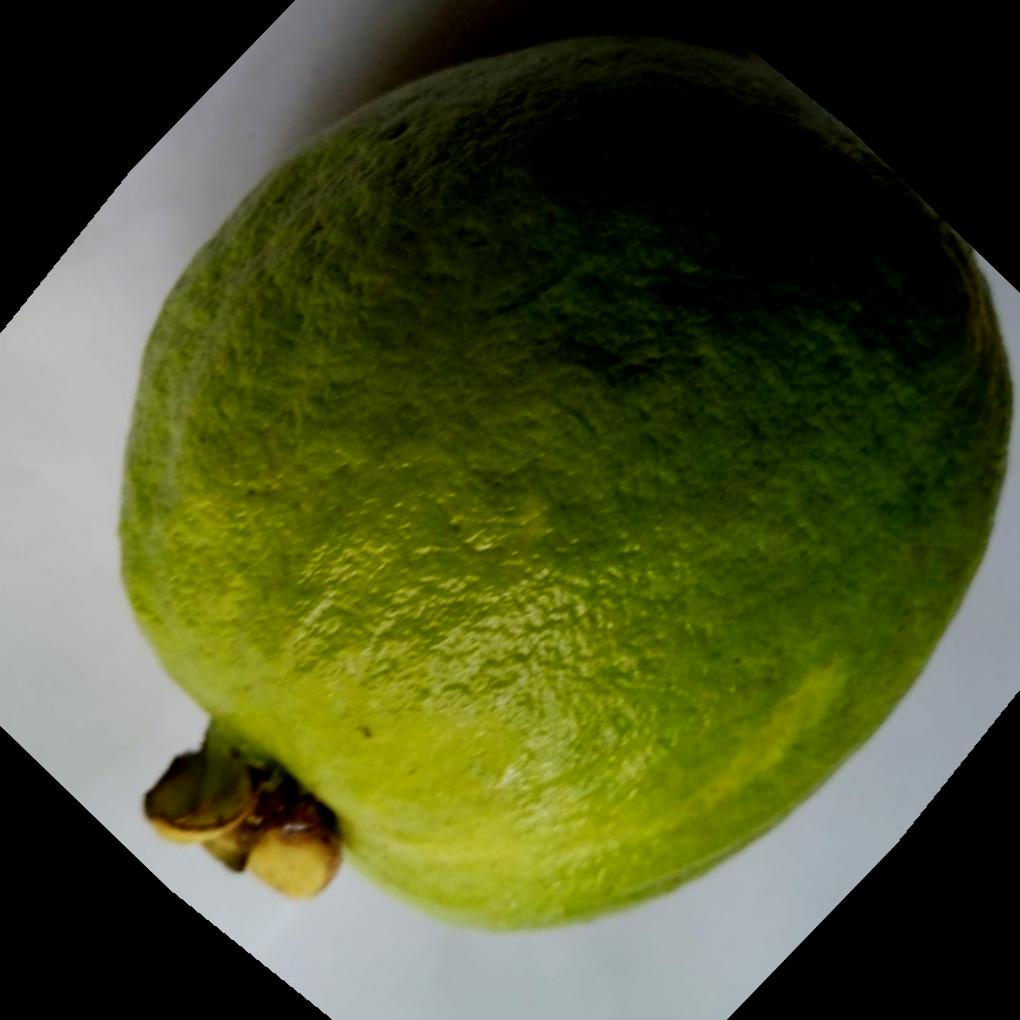FreshGuava: (113, 26, 1014, 933)
